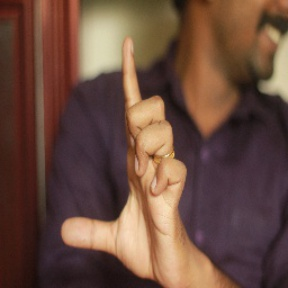L: (57, 35, 193, 284)
